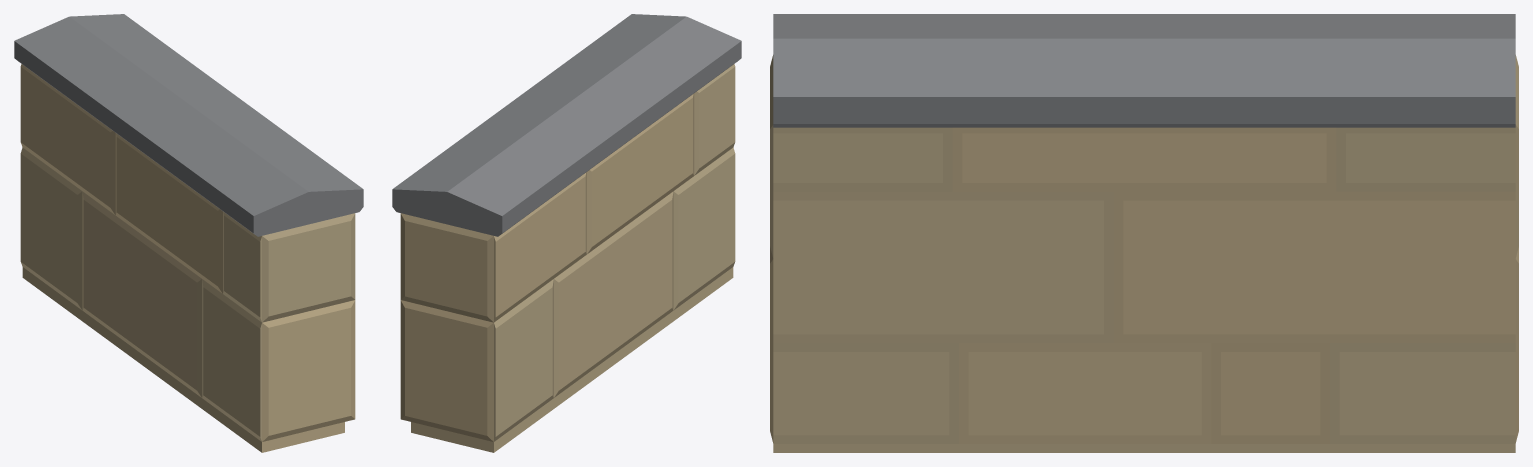
The picture shows the model from 3 angles, left to right: view 1: azimuth 30°, elevation 25°; view 2: azimuth 150°, elevation 25°; view 3: azimuth 270°, elevation 25°; orthographic projection. The views are drawn at different scales.
Visible parts, largest first — view 1: Mesh_Limestone, Mesh_Granite; view 2: Mesh_Limestone, Mesh_Granite; view 3: Mesh_Limestone, Mesh_Granite.
Boxes of the visible parts, x1,y1,x2,y2 form: Mesh_Limestone: [20, 64, 355, 452]; Mesh_Granite: [14, 14, 363, 236]; Mesh_Limestone: [400, 64, 735, 452]; Mesh_Granite: [392, 14, 741, 236]; Mesh_Limestone: [770, 55, 1518, 452]; Mesh_Granite: [773, 14, 1515, 127].
Size of the model in its own units: 0.53 by 1.15 by 2.02.
